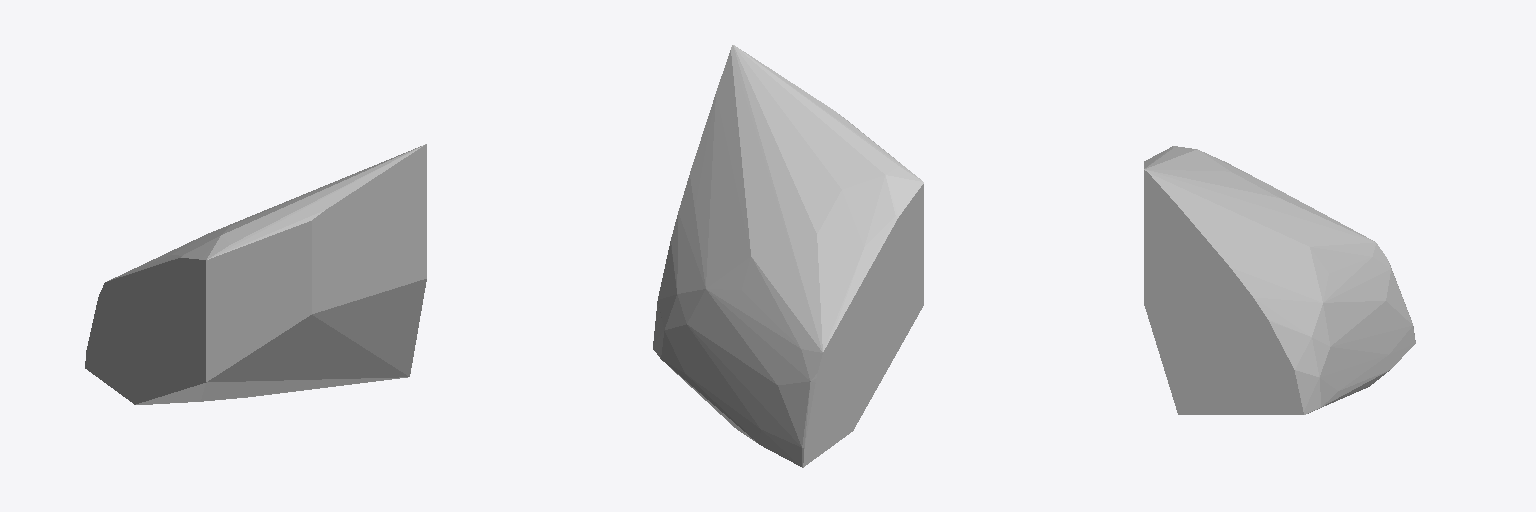
Rendered from phantom-elastrat_collision_662.obj.
3 views of the same model, side by side, from view 1: azimuth 30°, elevation 25°; view 2: azimuth 150°, elevation 25°; view 3: azimuth 270°, elevation 25° (orthographic).
Bounding box in the file's own units: 0.0046 × 0.0059 × 0.0053.